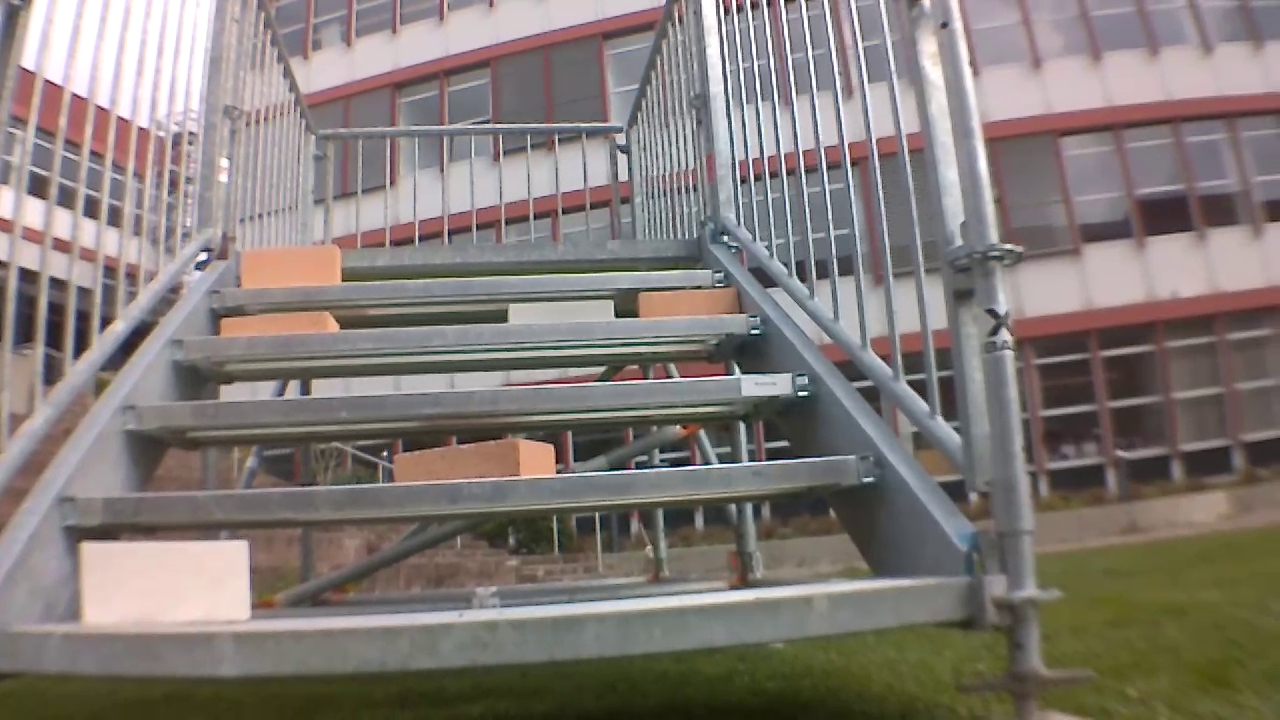brick: (81, 540, 248, 621), (392, 437, 555, 481), (241, 245, 340, 286), (639, 289, 739, 317), (220, 313, 338, 334), (508, 300, 613, 322)
edge: (3, 580, 961, 674), (58, 453, 876, 521), (121, 372, 815, 426), (172, 313, 763, 356), (210, 270, 731, 303), (231, 239, 695, 264)
stairs: (7, 3, 1075, 717)
steps: (5, 232, 967, 679)
